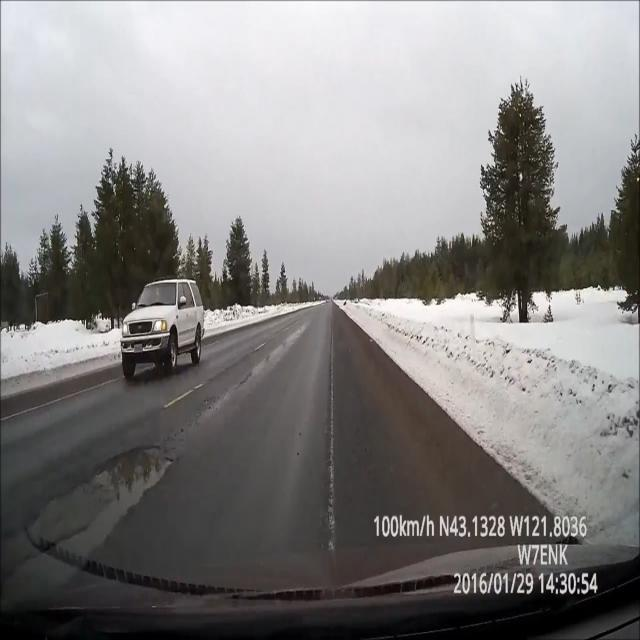Buraco: (0, 441, 180, 608)
